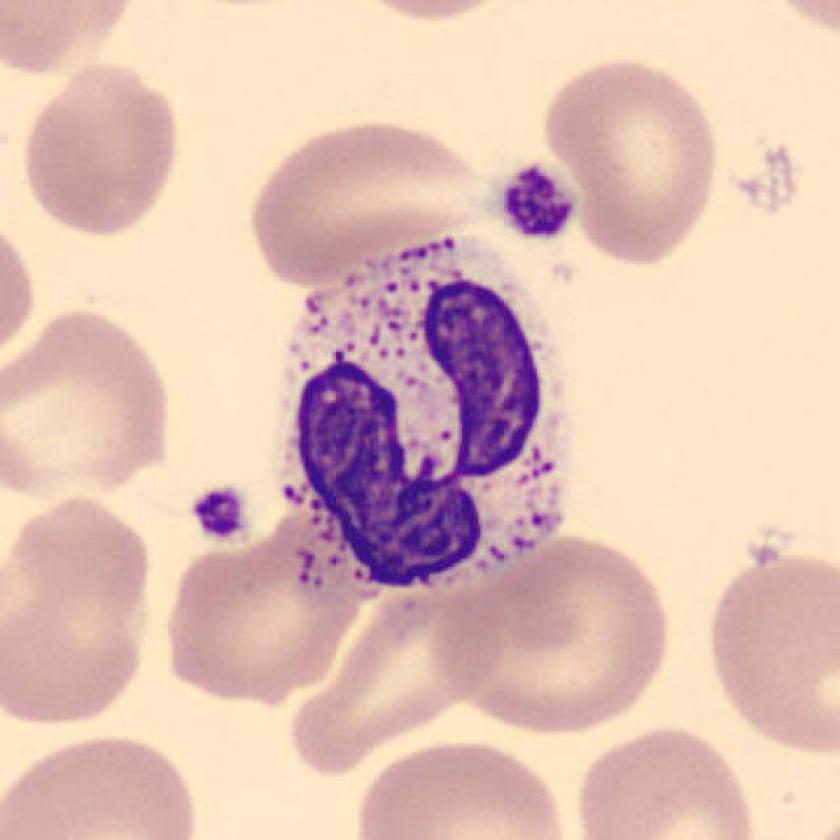neutrophil: (281, 232, 571, 593)
